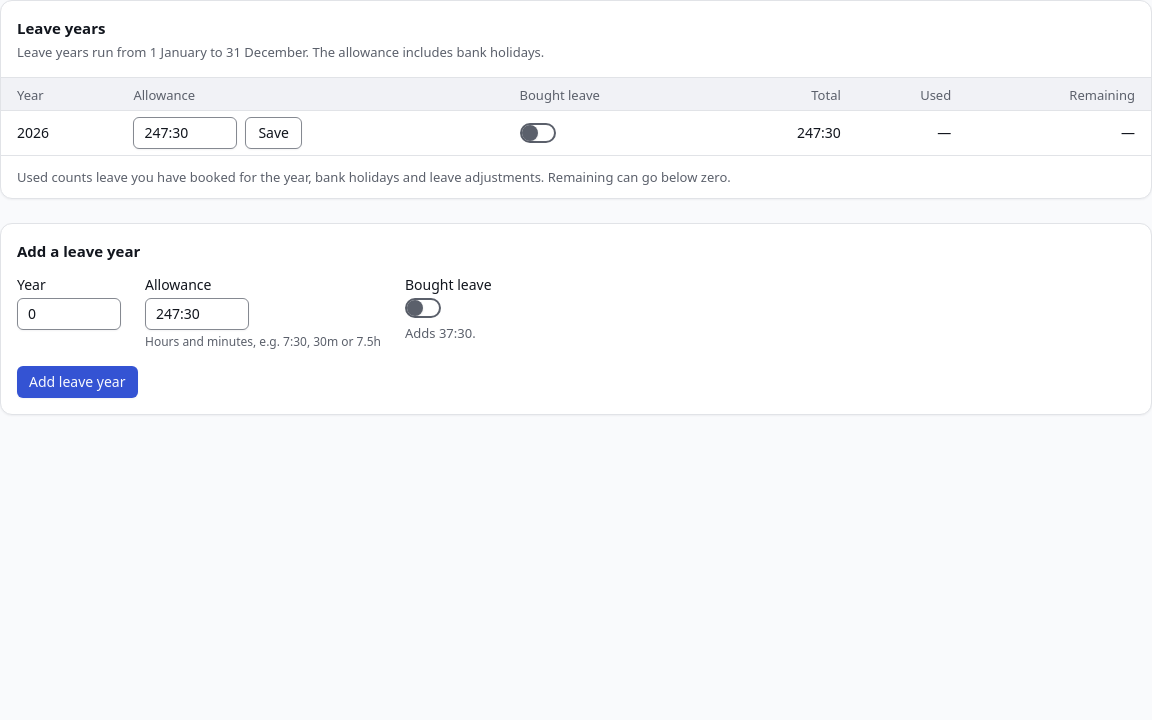
Test: LeaveTab › offers Reload when bought leave changed elsewhere (409)
The width and height of the screenshot is (1152, 720).
Click the switch named "Bought leave for 2026".
click(538, 132)  # box 520,122 -> 556,142
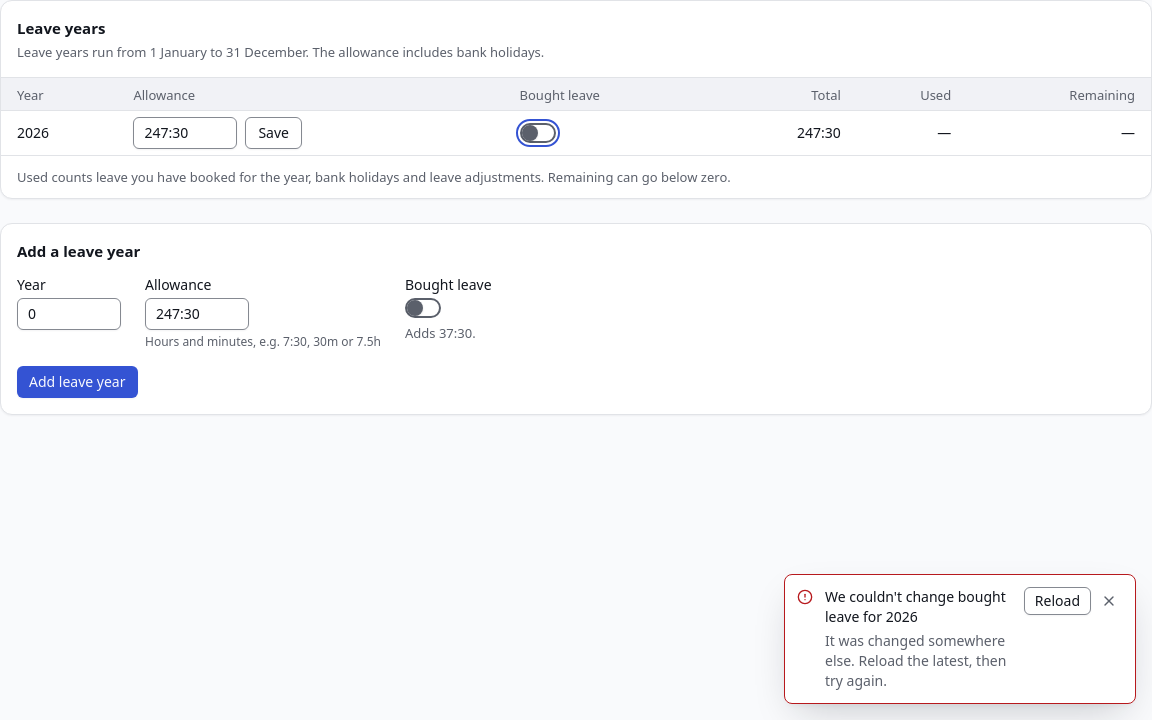
Result: the text "We couldn't change bought leave for 2026" is shown at 825,587 -> 1012,627
Result: the button "Reload" is shown at 1024,587 -> 1091,615
